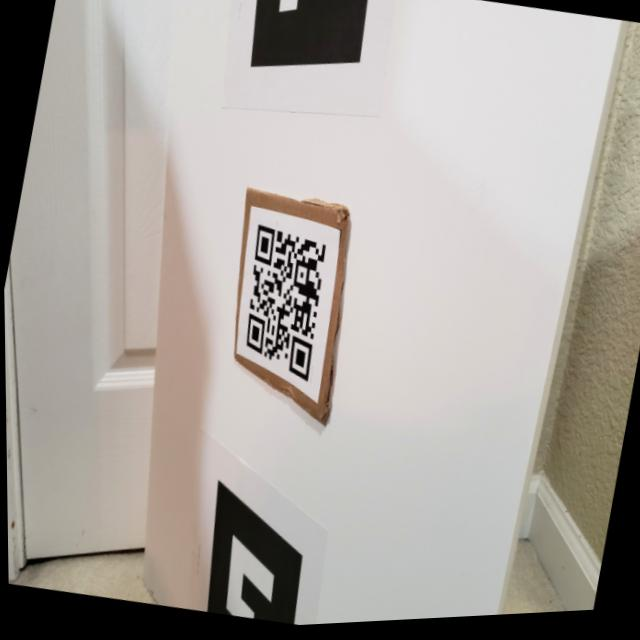QR_CODE: (222, 210, 347, 397)
